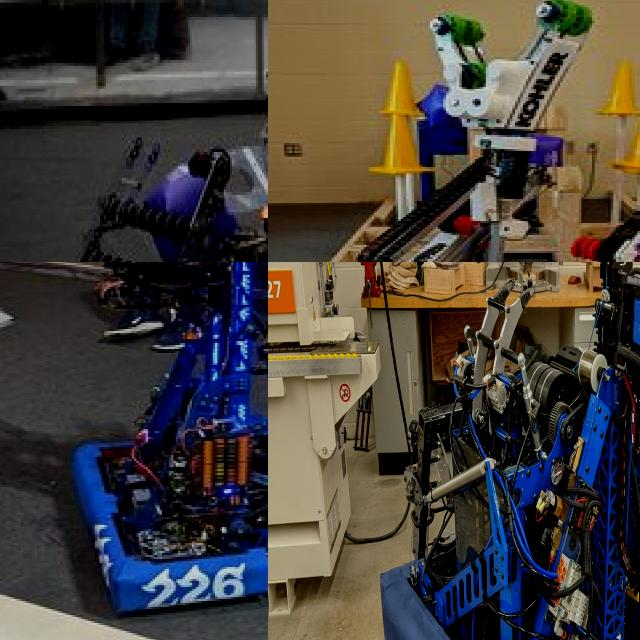FRC-Robots: (291, 0, 640, 262), (11, 262, 268, 603), (466, 262, 640, 640), (37, 28, 268, 262)
